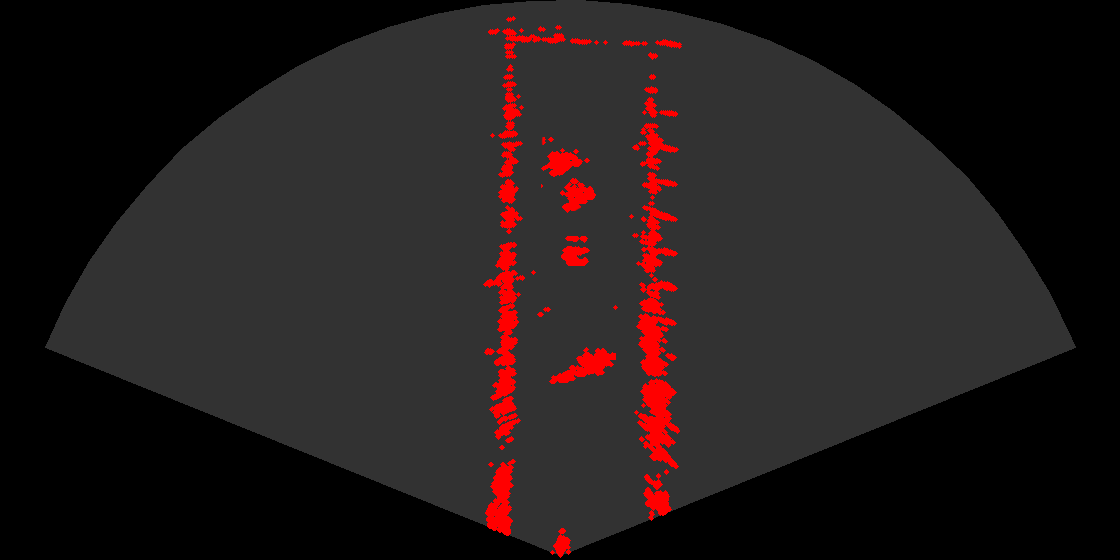ball: (541, 228, 601, 269)
cage: (541, 137, 604, 221)
frogman: (548, 341, 616, 388)
